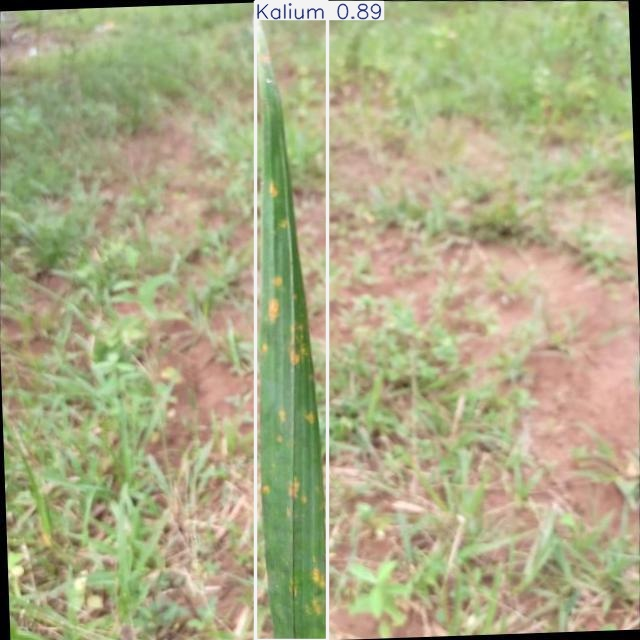Kalium: (256, 2, 328, 640)
